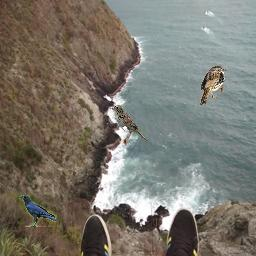Crow: (19, 195, 57, 227)
Sparrow: (111, 105, 148, 145), (200, 65, 227, 105)
